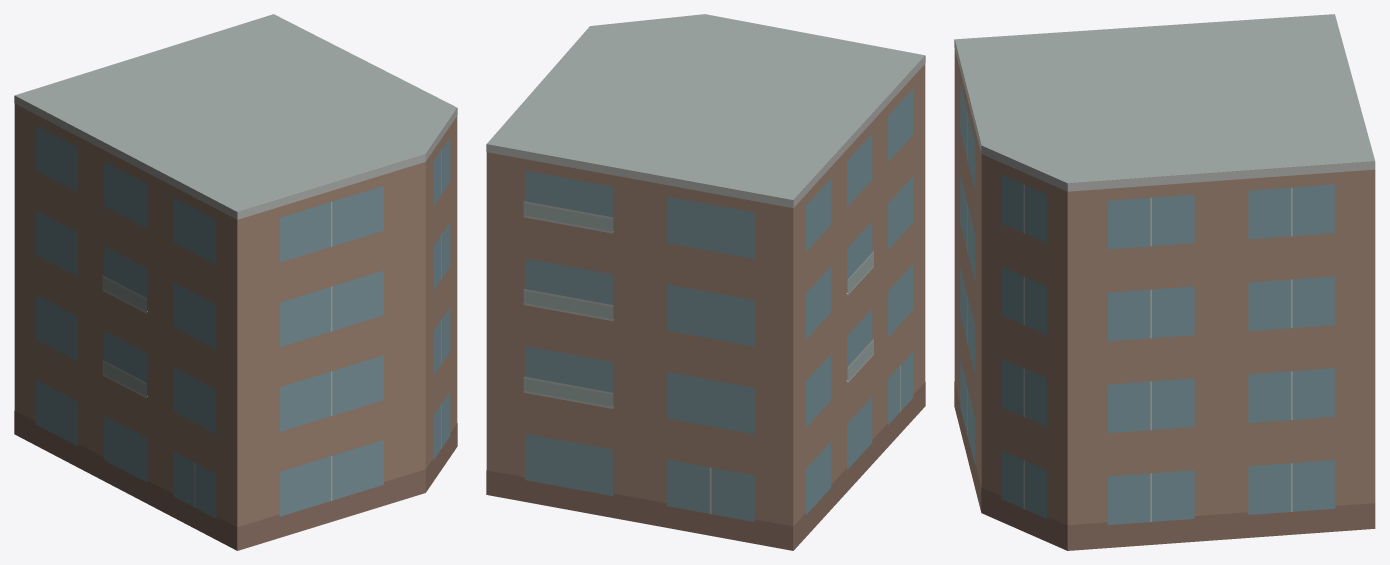
The model's file is survey-upis-32575556.glb.
The picture shows the model from 3 angles, left to right: view 1: azimuth 30°, elevation 25°; view 2: azimuth 150°, elevation 25°; view 3: azimuth 270°, elevation 25°; orthographic projection. The views are drawn at different scales.
Visible parts, largest first — view 1: survey-upis-32575556.tmp; view 2: survey-upis-32575556.tmp; view 3: survey-upis-32575556.tmp.
Part boxes in pixels (box(x1,y1,x2,y2)): survey-upis-32575556.tmp: box(14, 14, 457, 550); survey-upis-32575556.tmp: box(486, 14, 925, 550); survey-upis-32575556.tmp: box(954, 14, 1375, 550).
Bounding box in the file's own units: 10.48 × 10.6 × 11.
